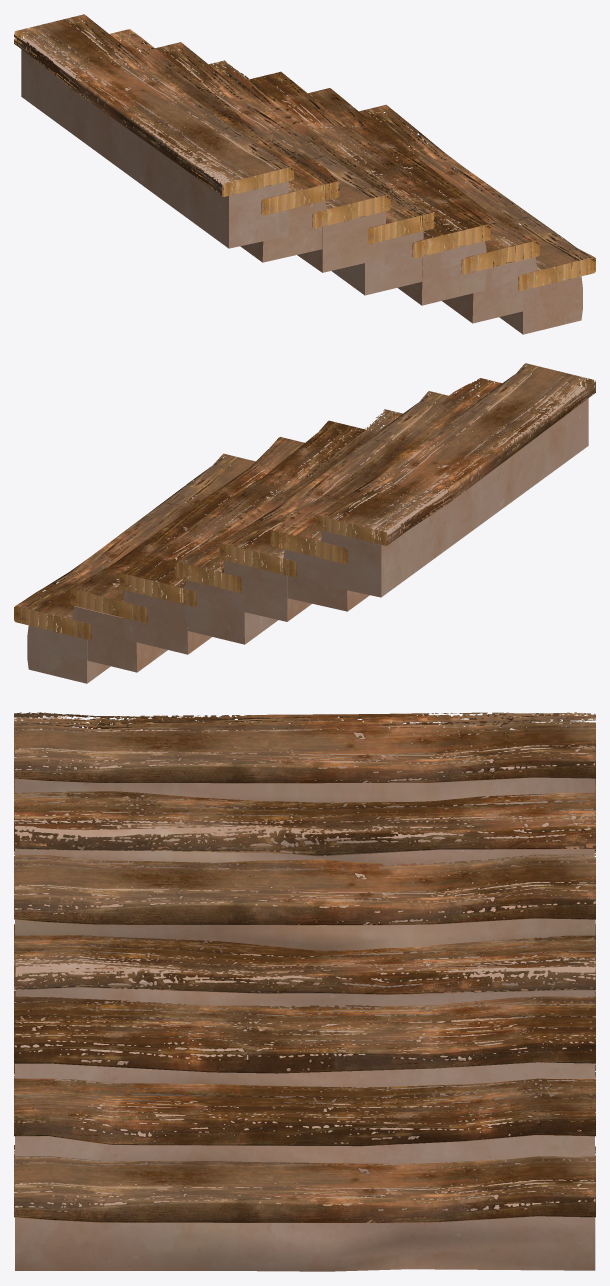
The picture shows the model from 3 angles, top to bottom: view 1: azimuth 30°, elevation 25°; view 2: azimuth 150°, elevation 25°; view 3: azimuth 270°, elevation 25°; orthographic projection. The views are drawn at different scales.
Parts seen in each view (by area): view 1: SM_BB_T4_Stairs_Shallow_LOD0; view 2: SM_BB_T4_Stairs_Shallow_LOD0; view 3: SM_BB_T4_Stairs_Shallow_LOD0.
Boxes of the visible parts, bbox=[...] form: SM_BB_T4_Stairs_Shallow_LOD0: bbox=[14, 14, 595, 334]; SM_BB_T4_Stairs_Shallow_LOD0: bbox=[14, 363, 595, 683]; SM_BB_T4_Stairs_Shallow_LOD0: bbox=[14, 712, 595, 1271].
Size of the model in its own units: 1.57 by 0.8966 by 1.51.
2 materials, 2 textured.
